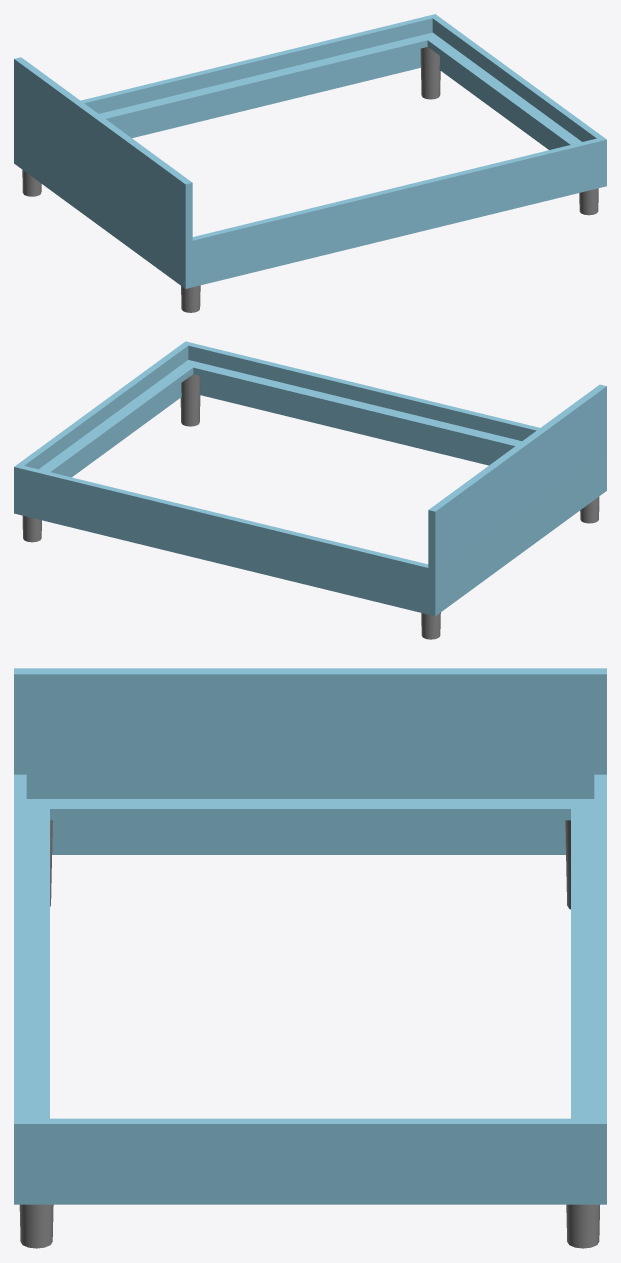
Rendered from FURNITURE_largeBed_03.FBX.
The picture shows the model from 3 angles, top to bottom: view 1: azimuth 30°, elevation 25°; view 2: azimuth 150°, elevation 25°; view 3: azimuth 270°, elevation 25°; orthographic projection. The views are drawn at different scales.
Parts seen in each view (by area): view 1: FURNITURE_largeBed_03; view 2: FURNITURE_largeBed_03; view 3: FURNITURE_largeBed_03.
Boxes of the visible parts, box(x1,y1,x2,y2) form: FURNITURE_largeBed_03: box(14, 14, 606, 312); FURNITURE_largeBed_03: box(14, 341, 606, 639); FURNITURE_largeBed_03: box(14, 668, 606, 1248).
Bounding box in the file's own units: 255 × 76.16 × 180.
